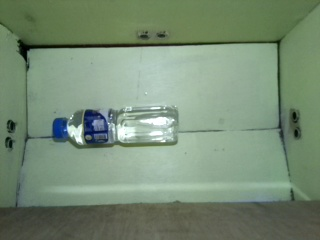bottle: (50, 104, 180, 147)
